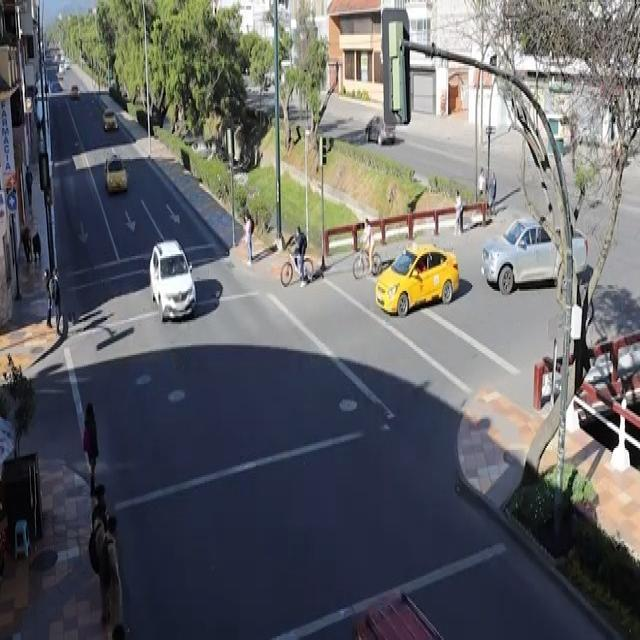CMT: (479, 222, 588, 295)
SED: (374, 240, 461, 318)
